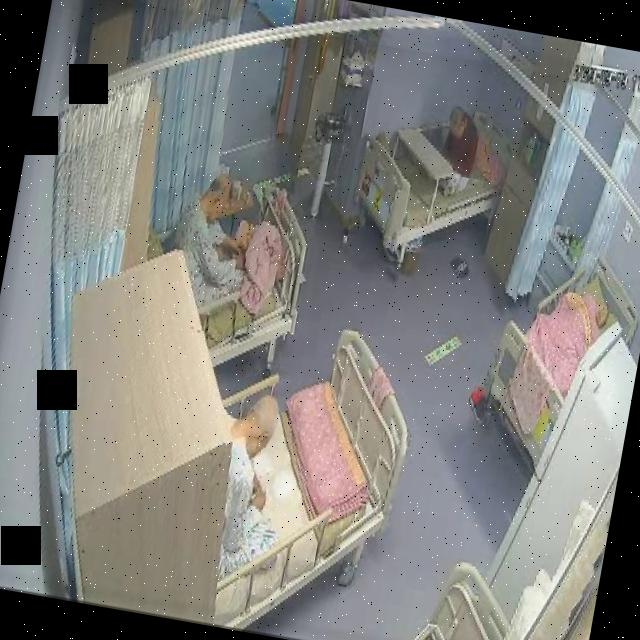bed: (178, 312, 424, 640), (472, 241, 640, 477), (153, 175, 315, 378), (349, 89, 516, 269)
patient: (200, 387, 300, 587), (160, 166, 258, 324), (427, 102, 483, 202)
sit: (162, 163, 304, 324), (198, 385, 302, 588), (428, 104, 484, 200)
